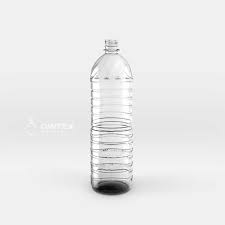Botella: (91, 40, 132, 192)
